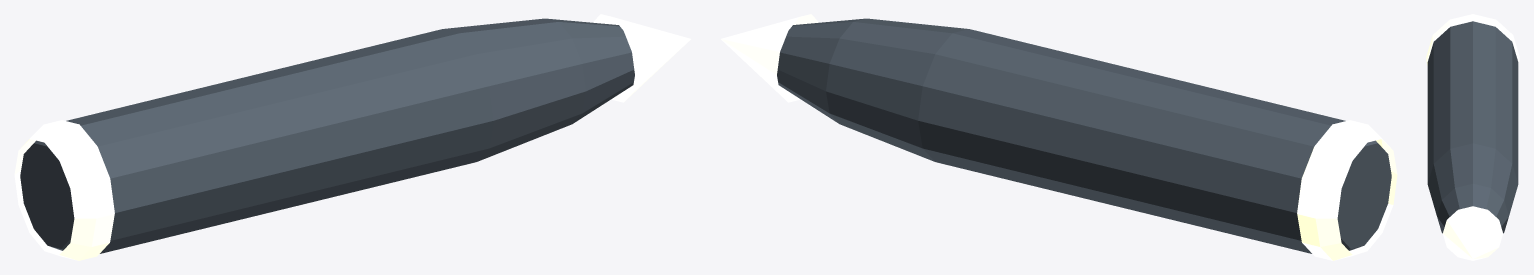
Rendered from sigil.glb.
3 renders of one model, left to right at view 1: azimuth 30°, elevation 25°; view 2: azimuth 150°, elevation 25°; view 3: azimuth 270°, elevation 25°, orthographic. The views are drawn at different scales.
Parts seen in each view (by area): view 1: Projectile / tapered copper-alloy jacket.031, Projectile / rear tracer compound.031, Projectile / luminous nose.031; view 2: Projectile / tapered copper-alloy jacket.031, Projectile / rear tracer compound.031, Projectile / luminous nose.031; view 3: Projectile / tapered copper-alloy jacket.031, Projectile / luminous nose.031, Projectile / rear tracer compound.031.
Part boxes in pixels (box(x1,y1,x2,y2)): Projectile / tapered copper-alloy jacket.031: box(20, 18, 634, 253); Projectile / rear tracer compound.031: box(14, 120, 114, 260); Projectile / luminous nose.031: box(593, 14, 690, 102); Projectile / tapered copper-alloy jacket.031: box(777, 18, 1391, 253); Projectile / rear tracer compound.031: box(1297, 120, 1397, 260); Projectile / luminous nose.031: box(721, 14, 818, 102); Projectile / tapered copper-alloy jacket.031: box(1427, 21, 1518, 233); Projectile / luminous nose.031: box(1442, 206, 1503, 260); Projectile / rear tracer compound.031: box(1426, 14, 1519, 65).
Size of the model in its own units: 0.424 by 0.08 by 0.08.
